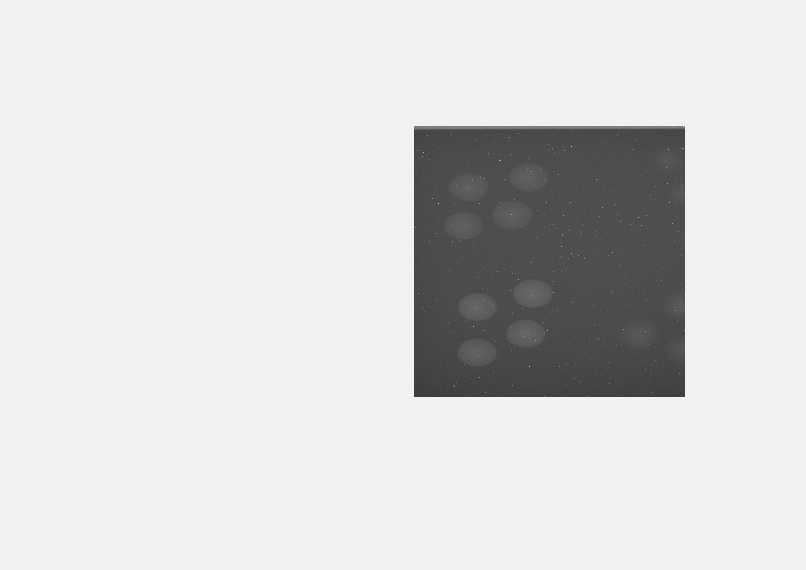cluster: (457, 278, 554, 369), (444, 164, 549, 240), (619, 292, 685, 362), (654, 150, 685, 204)
